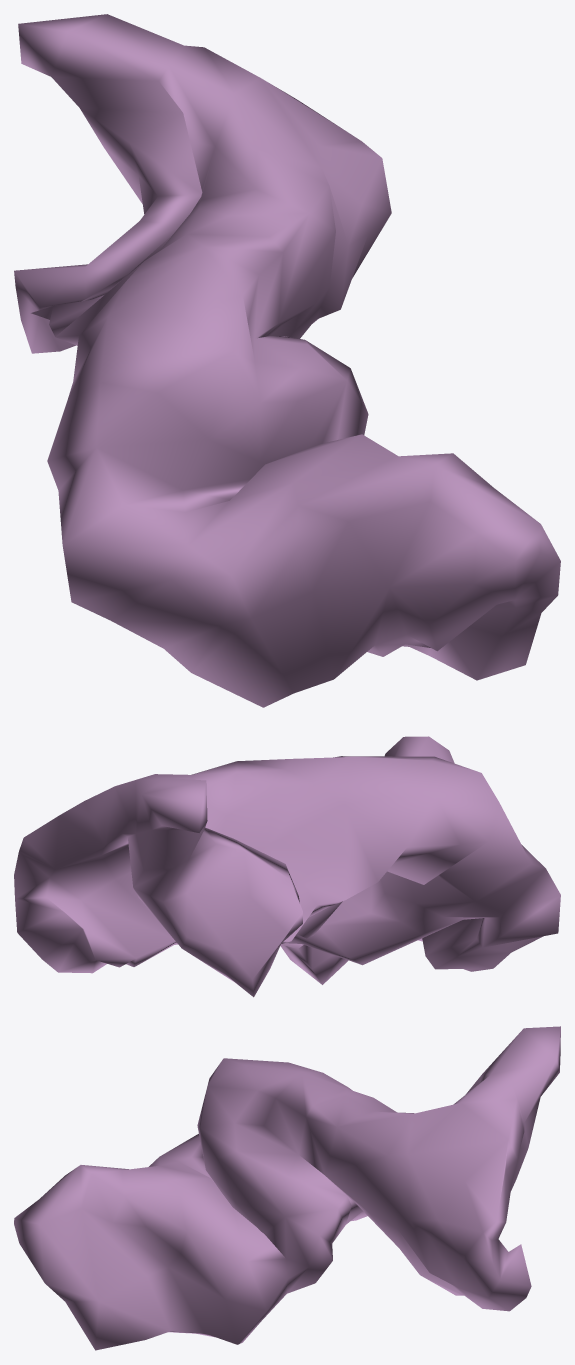
The picture shows the model from 3 angles, top to bottom: view 1: azimuth 30°, elevation 25°; view 2: azimuth 150°, elevation 25°; view 3: azimuth 270°, elevation 25°; orthographic projection. The views are drawn at different scales.
Parts seen in each view (by area): view 1: 左侧枕上回; view 2: 左侧枕上回; view 3: 左侧枕上回.
Part boxes in pixels (<box>): 左侧枕上回: <box>14,14,560,707</box>; 左侧枕上回: <box>14,736,560,997</box>; 左侧枕上回: <box>14,1026,560,1350</box>.
Bounding box in the file's own units: 0.0435 × 0.035 × 0.0585.
